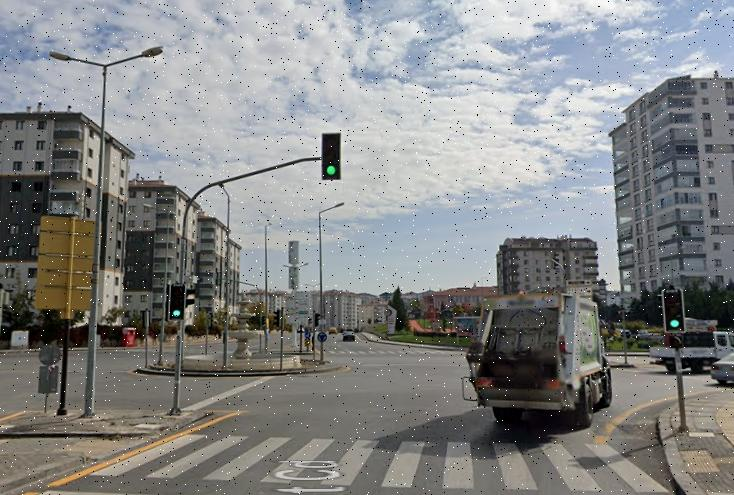greenlight: (660, 287, 688, 333), (320, 130, 344, 182), (166, 283, 186, 321)
